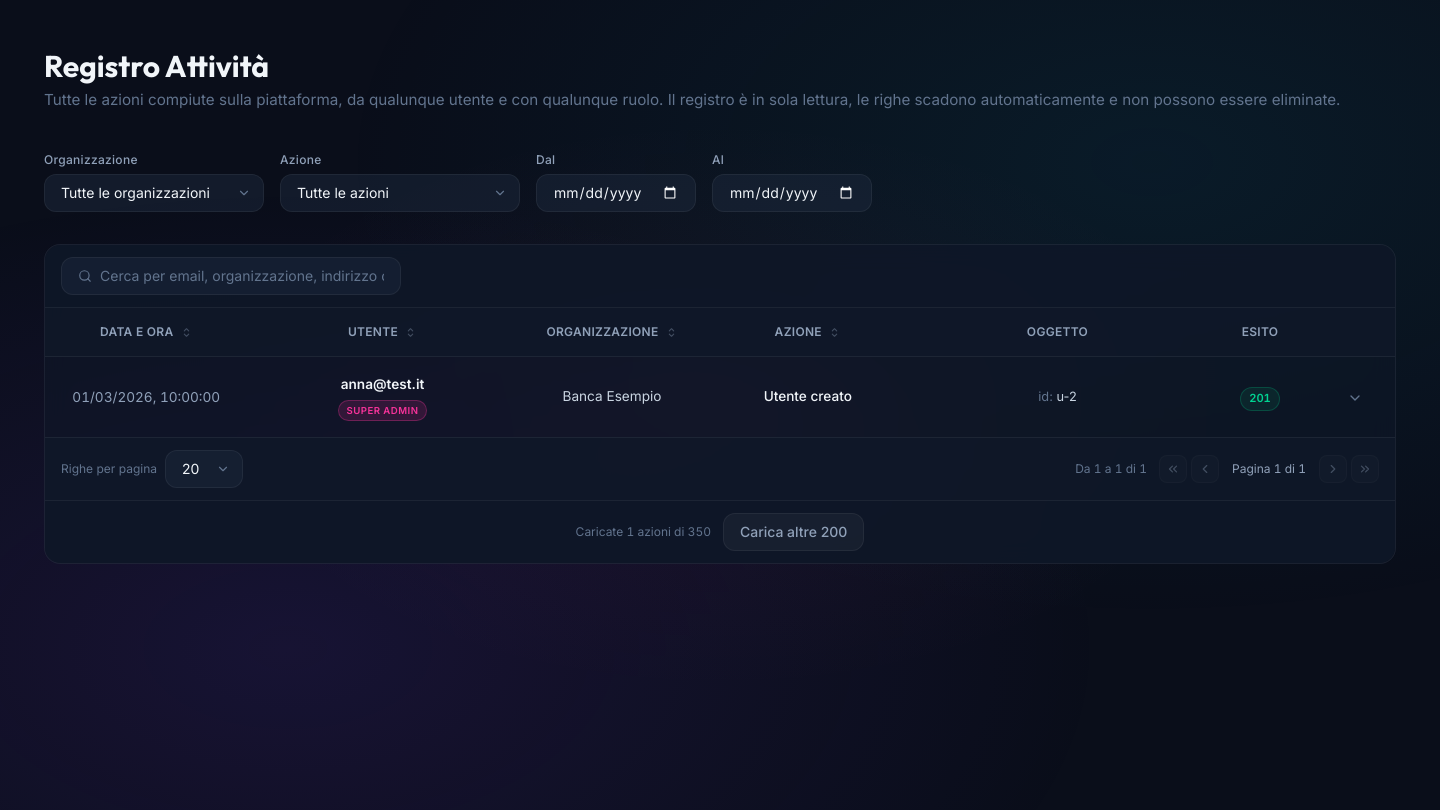
Scenario: finestra e stati › dice che il totale è quello dei filtri, quando ce n’è uno
The width and height of the screenshot is (1440, 810).
Click the dropdown named "Azione" at coordinates (400, 193), box [280, 174, 520, 212]
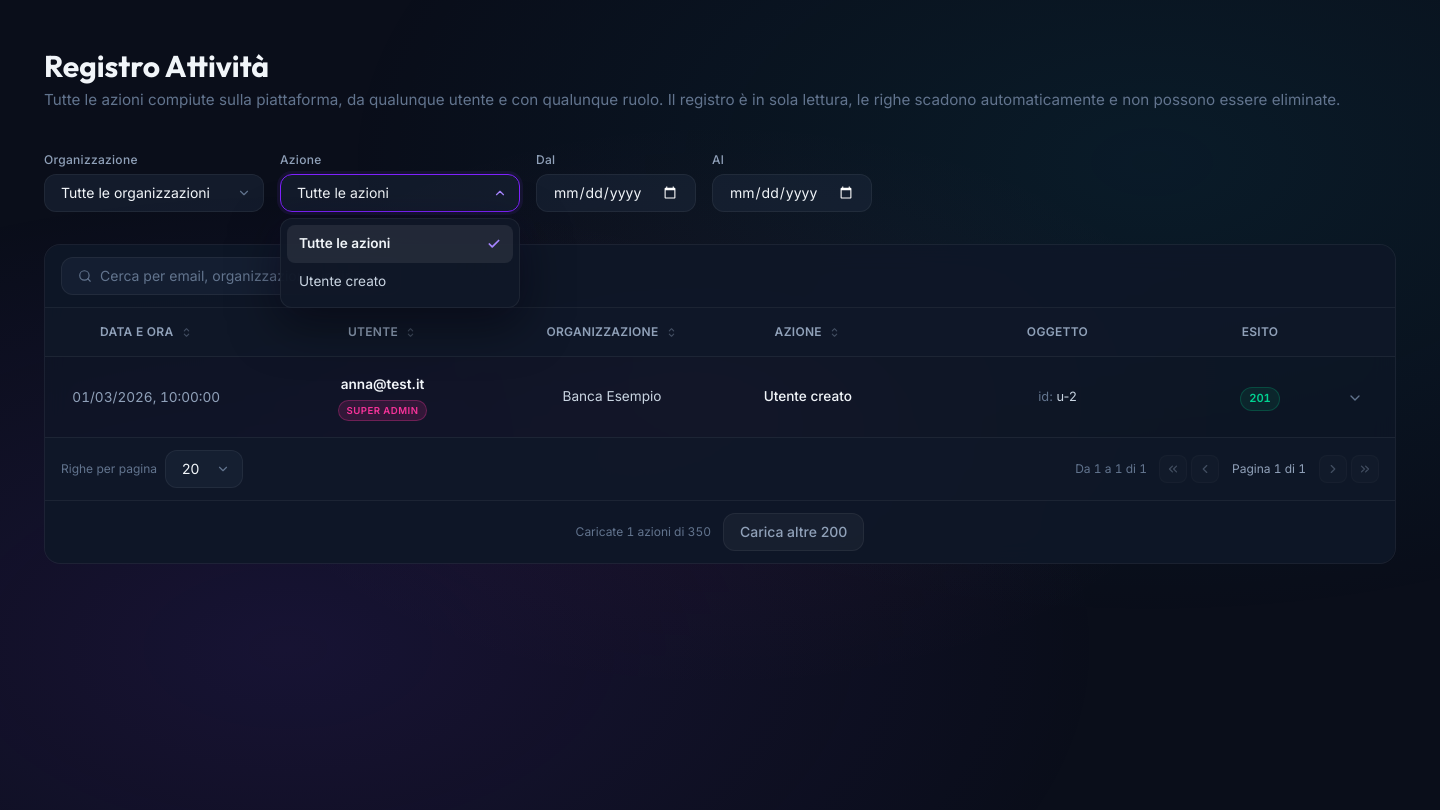
Click the option "Utente creato" at coordinates (343, 281), box [299, 273, 386, 289]
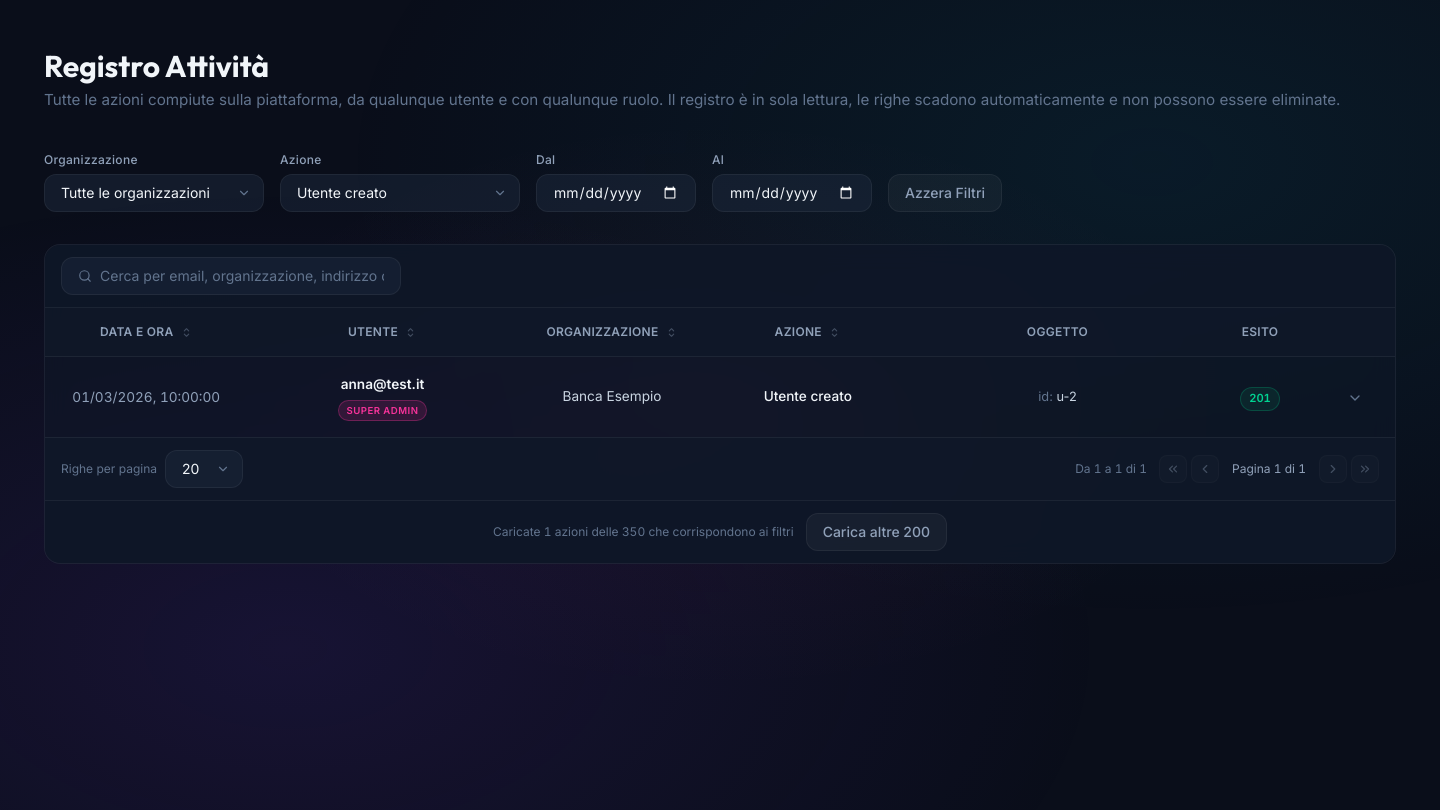
Expected: the text "Caricate 1 azioni delle 350 che corrispondono ai filtri" is shown, [493, 524, 794, 540]
